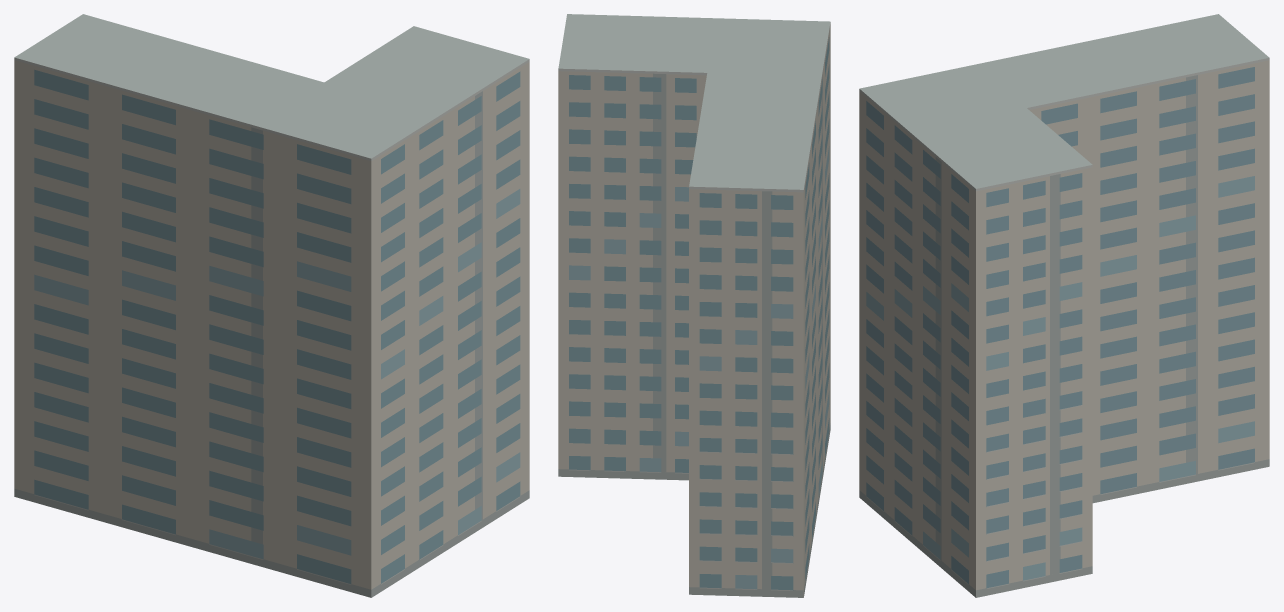
The model's file is residential-626dfd6b-a82d-4801-92bb-4cb5ec48746c.glb.
3 renders of one model, left to right at view 1: azimuth 30°, elevation 25°; view 2: azimuth 150°, elevation 25°; view 3: azimuth 270°, elevation 25°, orthographic. The views are drawn at different scales.
Visible parts, largest first — view 1: residential-626dfd6b-a82d-4801-92bb-4cb5ec48746c.tmp; view 2: residential-626dfd6b-a82d-4801-92bb-4cb5ec48746c.tmp; view 3: residential-626dfd6b-a82d-4801-92bb-4cb5ec48746c.tmp.
Part boxes in pixels (bbox=[...]): residential-626dfd6b-a82d-4801-92bb-4cb5ec48746c.tmp: bbox=[14, 14, 529, 597]; residential-626dfd6b-a82d-4801-92bb-4cb5ec48746c.tmp: bbox=[558, 14, 830, 597]; residential-626dfd6b-a82d-4801-92bb-4cb5ec48746c.tmp: bbox=[859, 14, 1269, 597].
Size of the model in its own units: 37.63 by 41 by 37.28.
